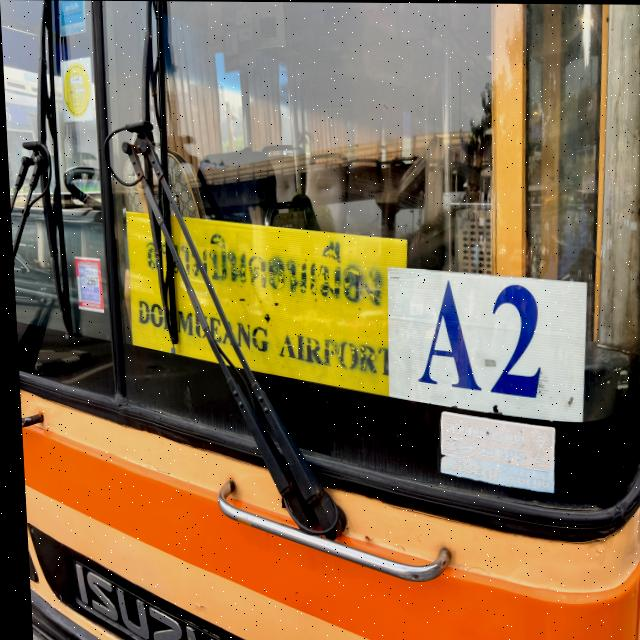Destination Sign: (124, 202, 411, 406)
